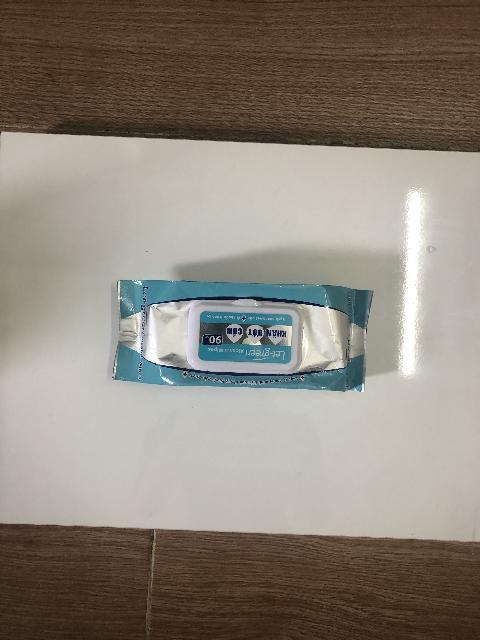Let-green_alcohol_wipes: (112, 280, 373, 392)
